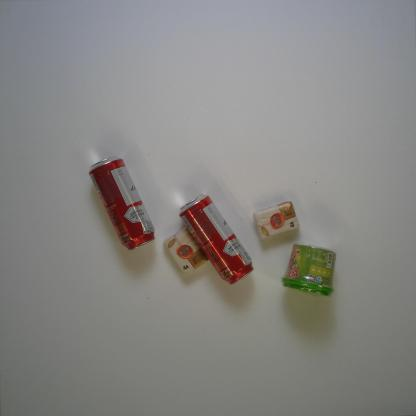Alcohol: (178, 192, 256, 285), (85, 154, 157, 253)
Instant Drink: (280, 242, 337, 300)
Tissue: (163, 223, 211, 276), (251, 199, 300, 242)
